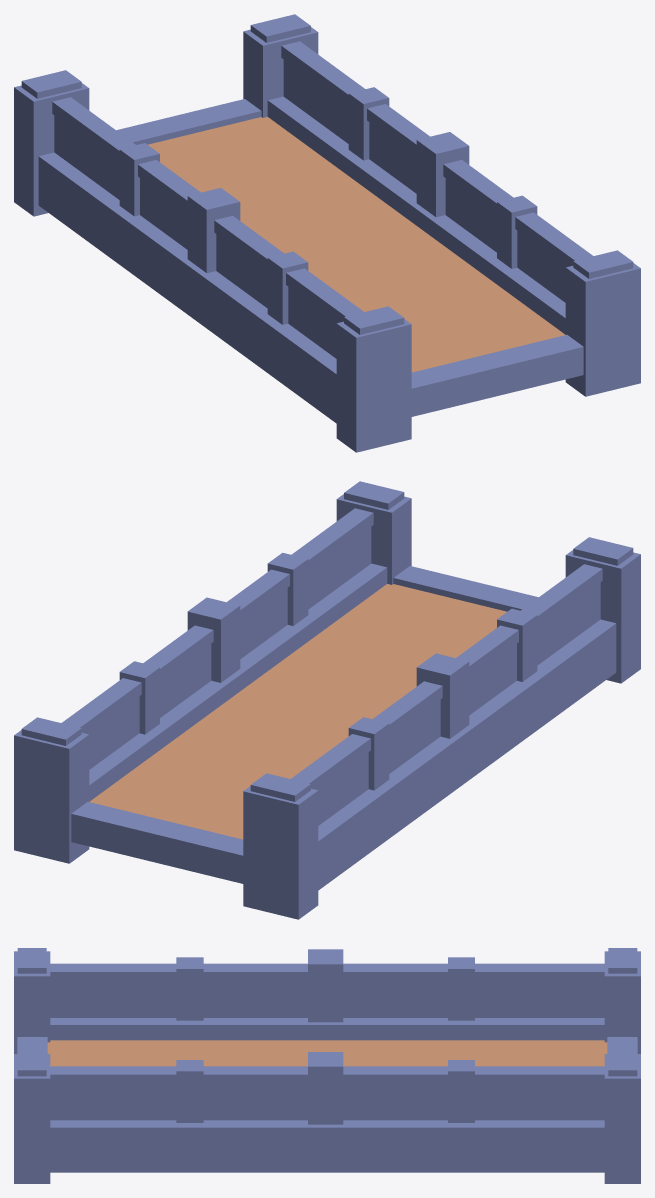
The model's file is bridge_2a_1.fbx.
3 views of the same model, one above another, from view 1: azimuth 30°, elevation 25°; view 2: azimuth 150°, elevation 25°; view 3: azimuth 270°, elevation 25° (orthographic). The views are drawn at different scales.
Parts seen in each view (by area): view 1: bridge_2a_1; view 2: bridge_2a_1; view 3: bridge_2a_1.
Part boxes in pixels (left/top/right/bottom): bridge_2a_1: left=14, top=14, right=640, bottom=452; bridge_2a_1: left=14, top=481, right=640, bottom=919; bridge_2a_1: left=14, top=948, right=640, bottom=1183.
Bounding box in the file's own units: 9.94 × 4.09 × 20.7.
